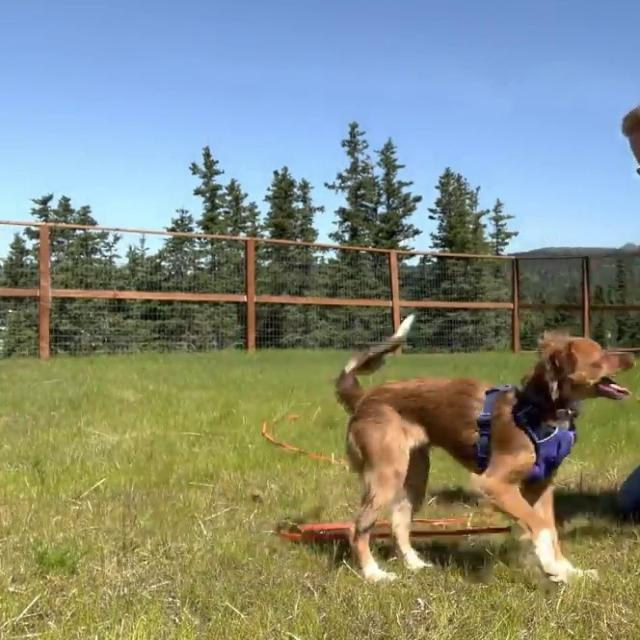Dog: (335, 313, 635, 584)
